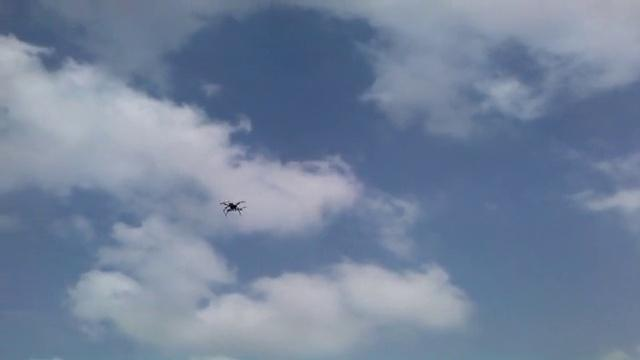drone: (217, 196, 248, 218)
